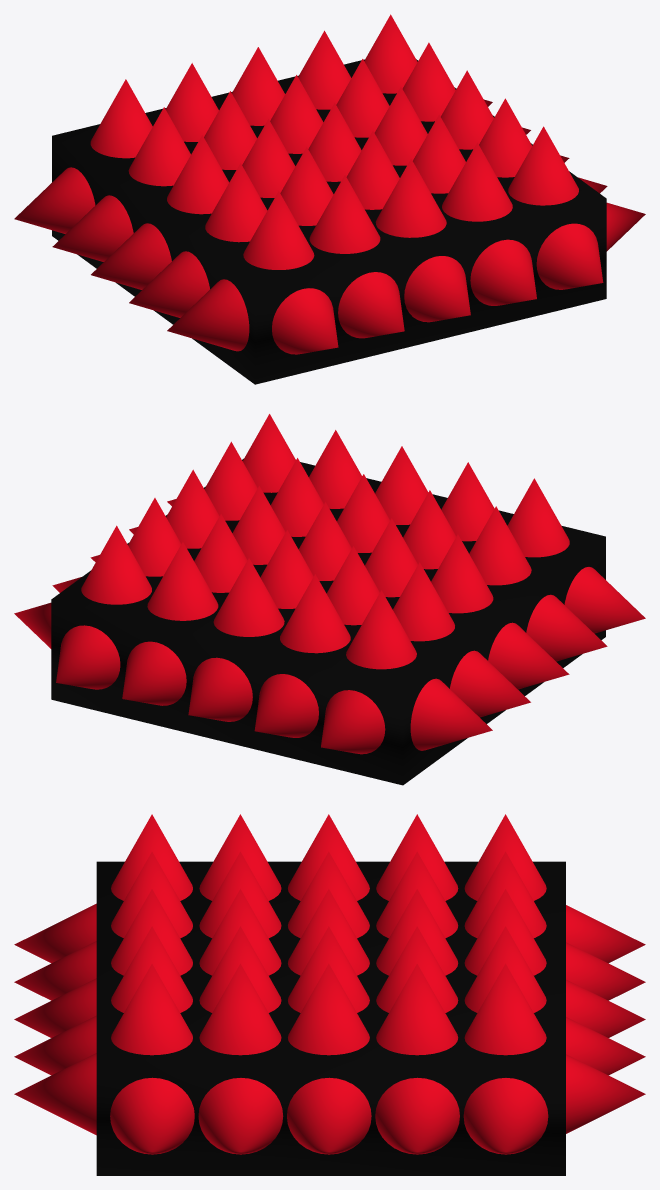
File: Engel.fbx
3 views of the same model, one above another, from view 1: azimuth 30°, elevation 25°; view 2: azimuth 150°, elevation 25°; view 3: azimuth 270°, elevation 25° (orthographic). The views are drawn at different scales.
Parts seen in each view (by area): view 1: Cone, Cube; view 2: Cone, Cube; view 3: Cone, Cube.
Boxes of the visible parts, x1,y1,x2,y2 form: Cone: (14, 14, 645, 354); Cube: (52, 59, 606, 384); Cone: (14, 414, 645, 754); Cube: (51, 458, 605, 785); Cone: (14, 814, 645, 1154); Cube: (96, 861, 565, 1175).
Size of the model in its own units: 273 by 269 by 89.55.
